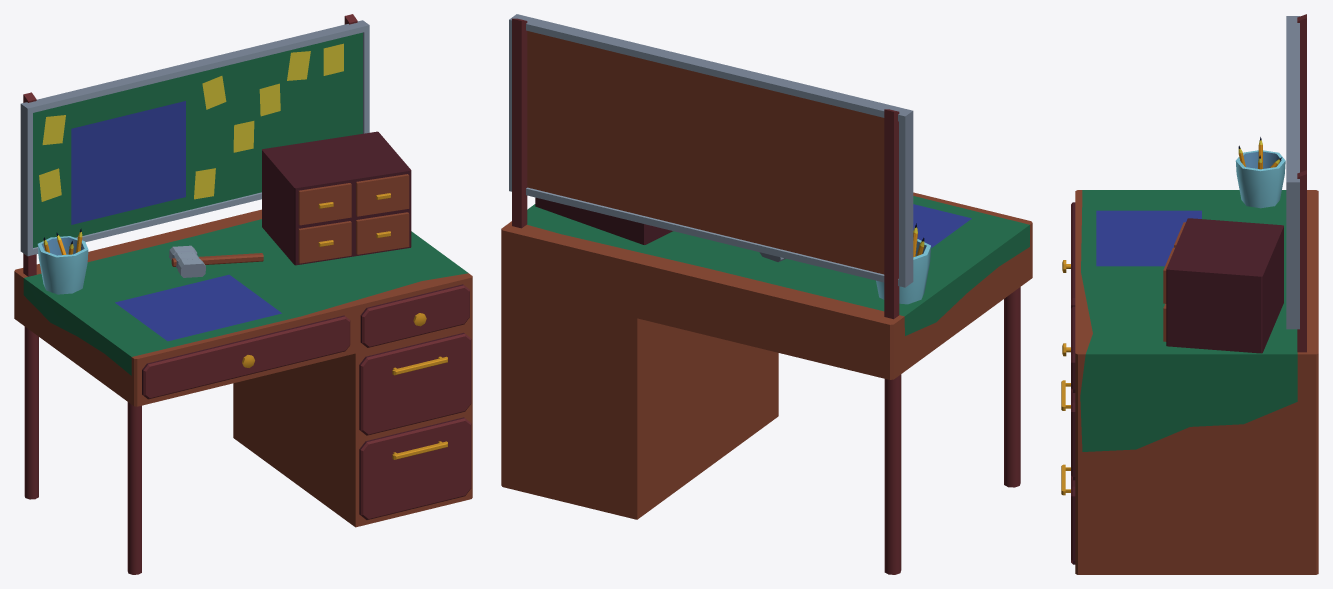
The model's file is Worktable.fbx.
3 renders of one model, left to right at view 1: azimuth 30°, elevation 25°; view 2: azimuth 150°, elevation 25°; view 3: azimuth 270°, elevation 25°, orthographic. The views are drawn at different scales.
Visible parts, largest first — view 1: Worktable; view 2: Worktable; view 3: Worktable.
Boxes of the visible parts, x1=… form: Worktable: x1=14, y1=14, x2=472, y2=574; Worktable: x1=501, y1=14, x2=1032, y2=574; Worktable: x1=1061, y1=14, x2=1318, y2=574.
Bounding box in the file's own units: 2 × 2.24 × 1.31.
1 material, 1 textured.
